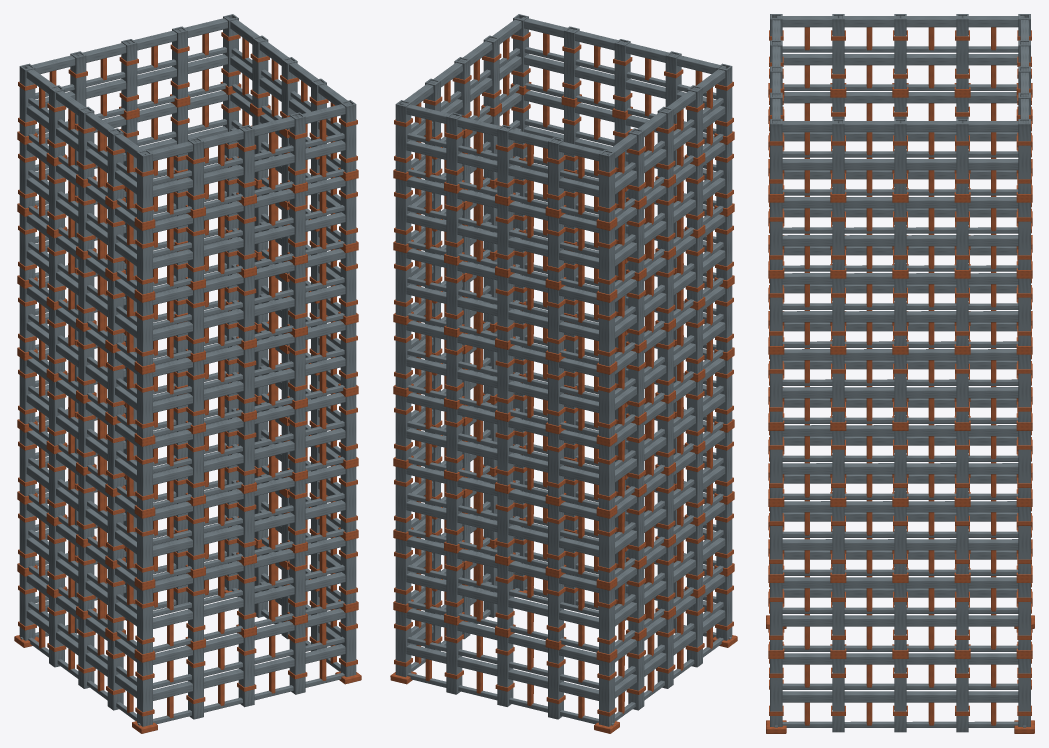
3 renders of one model, left to right at view 1: azimuth 30°, elevation 25°; view 2: azimuth 150°, elevation 25°; view 3: azimuth 270°, elevation 25°, orthographic. The views are drawn at different scales.
Parts seen in each view (by area): view 1: Tier 7 side 0 post 0, Tier 7 side 2 post 2, Tier 7 side 0 post 3, Tier 7 side 0 post 2, Tier 7 side 1 post 0, Tier 0 side 0 post 3, Tier 0 side 0 post 0, Tier 0 side 0 post 2, Tier 1 side 0 post 0, Tier 2 side 0 post 0, Tier 6 side 0 post 0, Tier 3 side 0 post 0 (+67 smaller); view 2: Tier 7 side 3 post 0, Tier 7 side 2 post 2, Tier 7 side 0 post 2, Tier 7 side 2 post 1, Tier 7 side 2 post 0, Tier 0 side 2 post 1, Tier 0 side 3 post 0, Tier 0 side 2 post 2, Tier 1 side 3 post 0, Tier 2 side 3 post 0, Tier 3 side 3 post 0, Tier 4 side 3 post 0 (+67 smaller); view 3: Tier 7 side 1 post 1, Tier 7 side 1 post 3, Tier 7 side 1 post 0, Tier 7 side 2 post 0, Tier 7 side 3 post 1, Tier 7 side 3 post 3, Tier 7 side 1 post 2, Tier 7 side 3 post 2, Tier 0 side 1 post 1, Tier 0 side 1 post 2, Tier 0 side 1 post 3, Tier 4 side 1 post 0 (+107 smaller).
Boxes of the visible parts, bbox=[...] form: Tier 7 side 0 post 0: bbox=[137, 149, 152, 222]; Tier 7 side 2 post 2: bbox=[121, 39, 137, 111]; Tier 7 side 0 post 3: bbox=[289, 112, 305, 185]; Tier 7 side 0 post 2: bbox=[238, 125, 254, 197]; Tier 7 side 1 post 0: bbox=[340, 100, 356, 172]; Tier 0 side 0 post 3: bbox=[289, 623, 305, 694]; Tier 0 side 0 post 0: bbox=[137, 659, 152, 726]; Tier 0 side 0 post 2: bbox=[238, 635, 254, 707]; Tier 1 side 0 post 0: bbox=[137, 587, 152, 654]; Tier 2 side 0 post 0: bbox=[137, 515, 152, 582]; Tier 6 side 0 post 0: bbox=[137, 227, 152, 294]; Tier 3 side 0 post 0: bbox=[137, 443, 152, 510]; Tier 7 side 3 post 0: bbox=[599, 149, 614, 222]; Tier 7 side 2 post 2: bbox=[497, 125, 513, 197]; Tier 7 side 0 post 2: bbox=[614, 39, 630, 111]; Tier 7 side 2 post 1: bbox=[446, 112, 462, 185]; Tier 7 side 2 post 0: bbox=[395, 100, 411, 172]; Tier 0 side 2 post 1: bbox=[446, 623, 462, 694]; Tier 0 side 3 post 0: bbox=[599, 659, 614, 726]; Tier 0 side 2 post 2: bbox=[497, 635, 513, 706]; Tier 1 side 3 post 0: bbox=[599, 587, 614, 654]; Tier 2 side 3 post 0: bbox=[599, 515, 614, 582]; Tier 3 side 3 post 0: bbox=[599, 443, 614, 510]; Tier 4 side 3 post 0: bbox=[599, 371, 614, 438]; Tier 7 side 1 post 1: bbox=[832, 119, 844, 193]; Tier 7 side 1 post 3: bbox=[956, 119, 968, 193]; Tier 7 side 1 post 0: bbox=[770, 119, 782, 193]; Tier 7 side 2 post 0: bbox=[1018, 119, 1030, 193]; Tier 7 side 3 post 1: bbox=[956, 14, 968, 88]; Tier 7 side 3 post 3: bbox=[832, 14, 844, 88]; Tier 7 side 1 post 2: bbox=[894, 119, 906, 193]; Tier 7 side 3 post 2: bbox=[894, 14, 906, 88]; Tier 0 side 1 post 1: bbox=[832, 659, 844, 732]; Tier 0 side 1 post 2: bbox=[894, 659, 906, 732]; Tier 0 side 1 post 3: bbox=[956, 659, 968, 732]; Tier 4 side 1 post 0: bbox=[770, 354, 782, 422].
Size of the model in its own units: 1.95 by 4.87 by 1.95.
2 materials, 2 textured.
